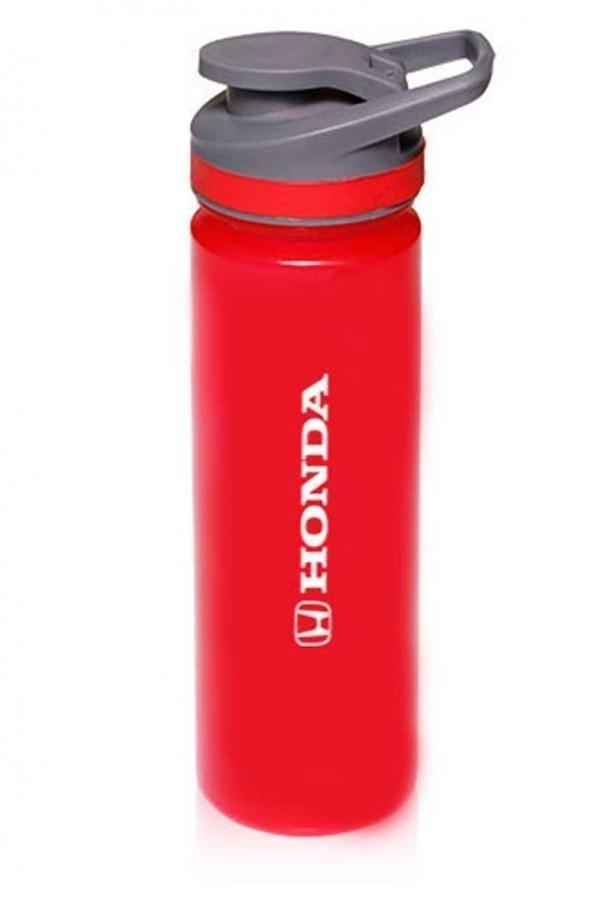gym bottle: (180, 19, 490, 846)
